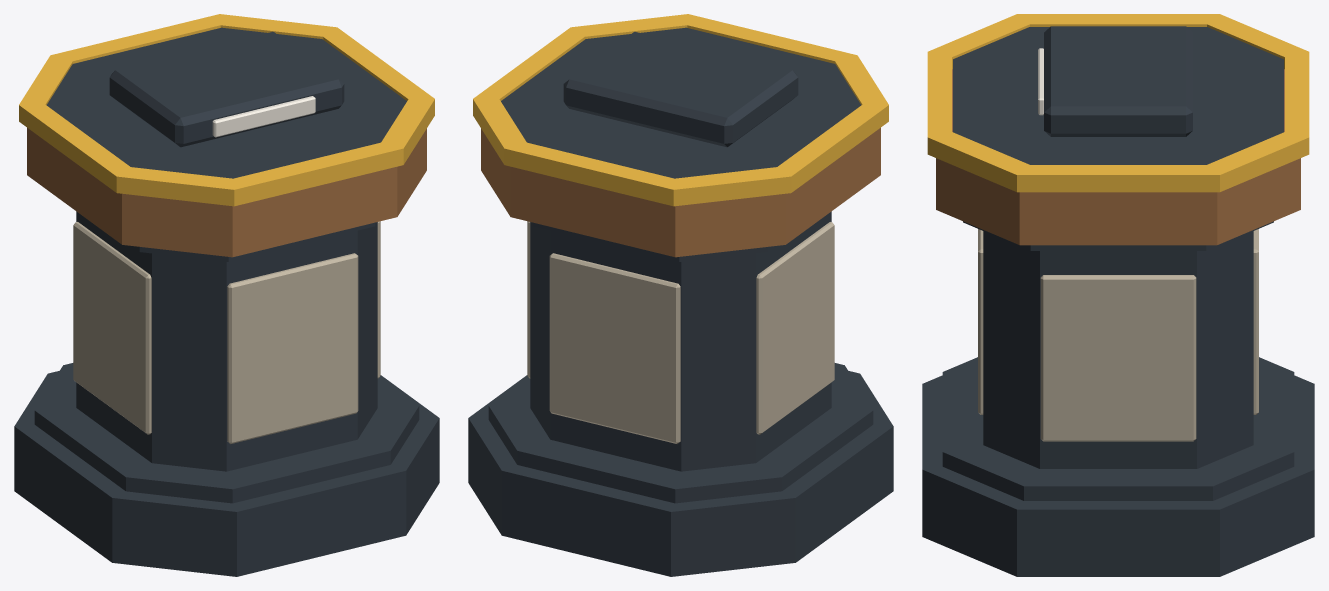
Rendered from Gallery_Pedestal.fbx.
3 renders of one model, left to right at view 1: azimuth 30°, elevation 25°; view 2: azimuth 150°, elevation 25°; view 3: azimuth 270°, elevation 25°, orthographic. The views are drawn at different scales.
Parts seen in each view (by area): view 1: FrameDark, Concrete, Amber_Metal, Wood, Cream_SmoothPlastic; view 2: FrameDark, Concrete, Amber_Metal, Wood; view 3: FrameDark, Concrete, Amber_Metal, Wood.
Part boxes in pixels (box(x1,y1,x2,y2)): FrameDark: box(14, 27, 439, 576); Concrete: box(73, 221, 380, 443); Amber_Metal: box(19, 14, 434, 206); Wood: box(27, 127, 426, 257); Cream_SmoothPlastic: box(212, 96, 315, 137); FrameDark: box(468, 27, 893, 576); Concrete: box(527, 221, 834, 443); Amber_Metal: box(473, 14, 888, 206); Wood: box(481, 127, 880, 257); FrameDark: box(922, 26, 1314, 576); Concrete: box(978, 229, 1258, 441); Amber_Metal: box(927, 14, 1309, 192); Wood: box(936, 69, 1300, 245).
Bounding box in the file's own units: 2.9 × 3.49 × 2.9.
